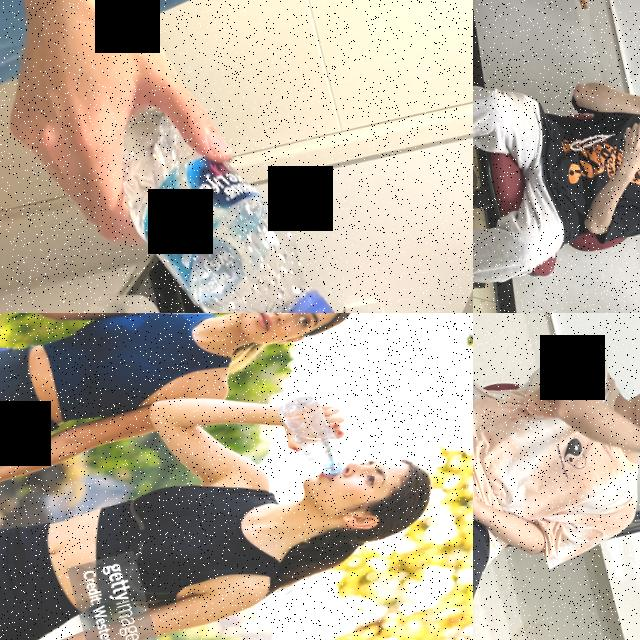bottle: (100, 70, 344, 313), (274, 388, 346, 486), (141, 313, 271, 330)
